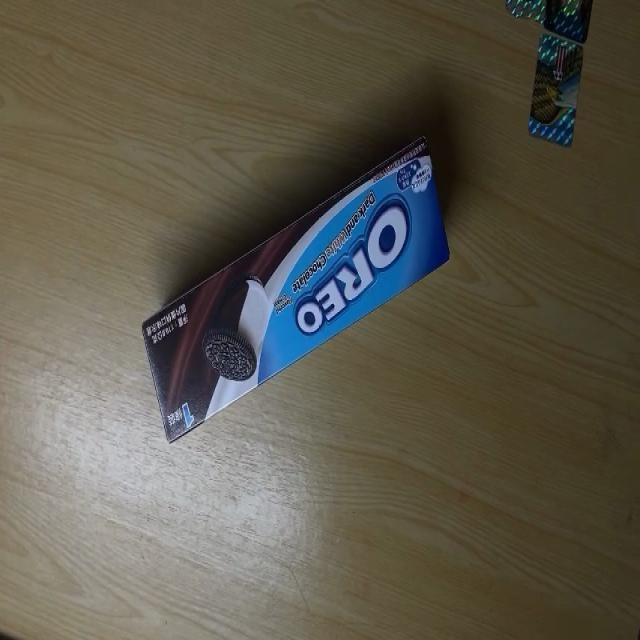Oreo: (141, 138, 448, 447)
